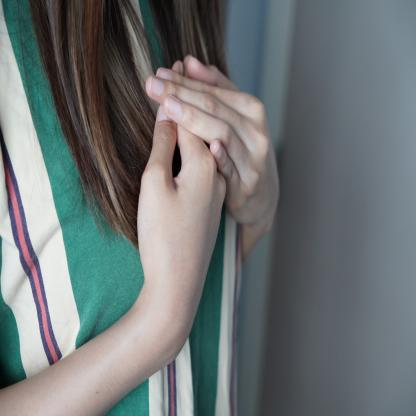Grieve: (119, 43, 294, 365)
